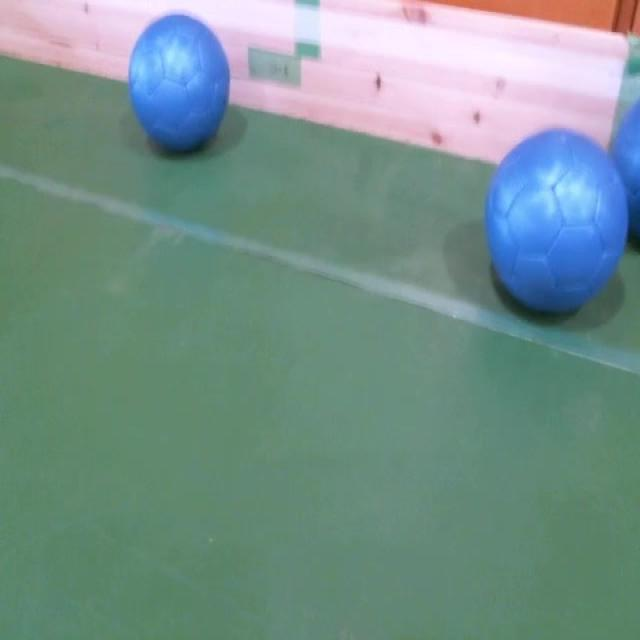blue_ball: (482, 126, 628, 317), (130, 14, 230, 157), (610, 101, 640, 251)
